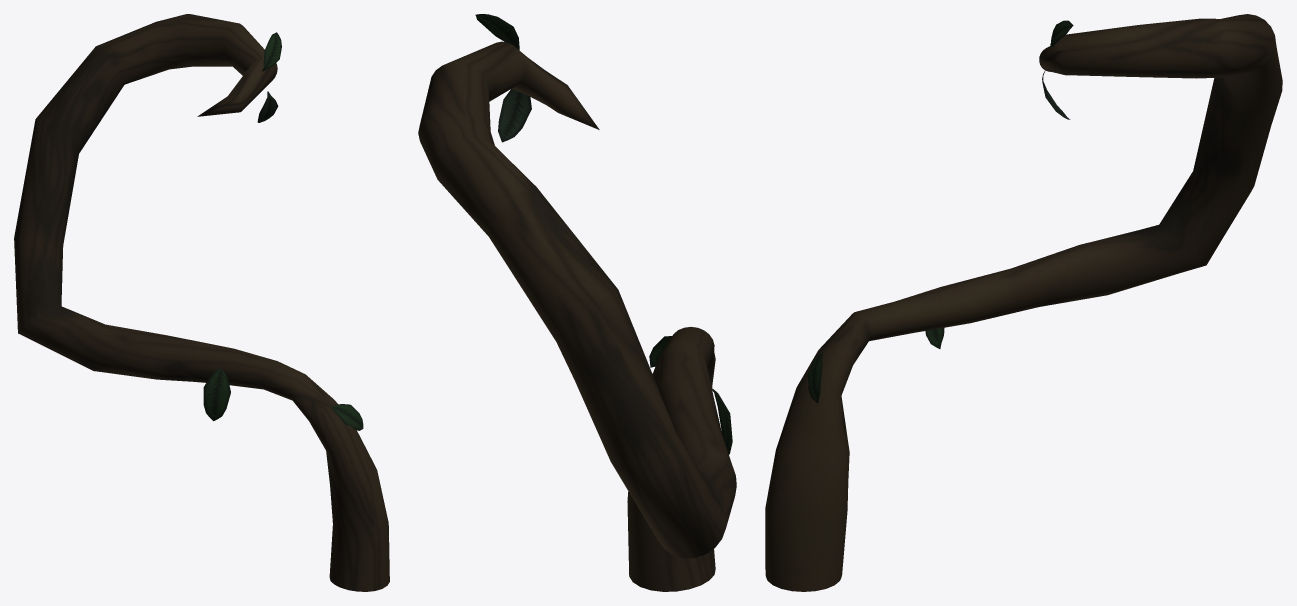
File: raiz3.fbx
The picture shows the model from 3 angles, left to right: view 1: azimuth 30°, elevation 25°; view 2: azimuth 150°, elevation 25°; view 3: azimuth 270°, elevation 25°; orthographic projection. The views are drawn at different scales.
Visible parts, largest first — view 1: polySurface63, pPlane20, pPlane19, pPlane36; view 2: polySurface63, pPlane27, pPlane36, pPlane20; view 3: polySurface63.
Part boxes in pixels (x1,y1,x2,y2): polySurface63: (14,14,389,591); pPlane20: (203,368,230,421); pPlane19: (332,404,363,430); pPlane36: (262,32,281,71); polySurface63: (418,41,736,591); pPlane27: (498,88,531,142); pPlane36: (475,14,519,50); pPlane20: (712,388,732,454); polySurface63: (765,14,1282,591).
Size of the model in its own units: 40.24 by 82.34 by 68.04.
Materials: 2 (2 with a texture image).
